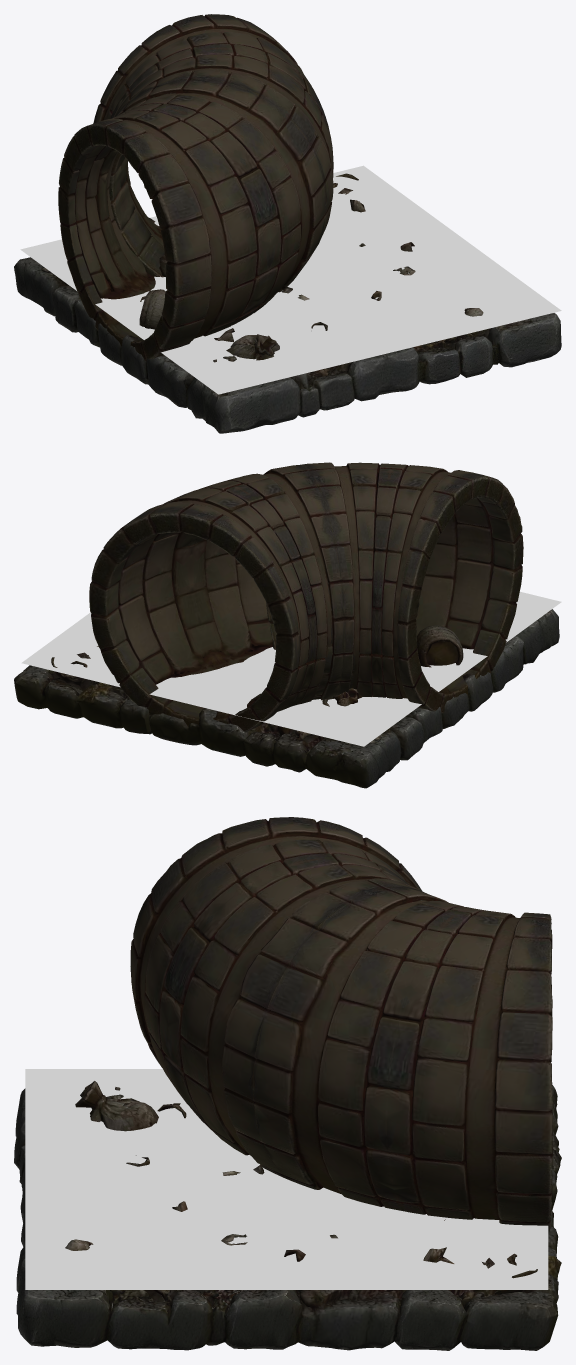
File: Crawlspace_Pipe_Turn.fbx
3 renders of one model, top to bottom at view 1: azimuth 30°, elevation 25°; view 2: azimuth 150°, elevation 25°; view 3: azimuth 270°, elevation 25°, orthographic. The views are drawn at different scales.
Parts seen in each view (by area): view 1: CrawlSpace_Pipe_Turn; view 2: CrawlSpace_Pipe_Turn; view 3: CrawlSpace_Pipe_Turn.
Boxes of the visible parts, bbox=[...] form: CrawlSpace_Pipe_Turn: bbox=[14, 14, 561, 433]; CrawlSpace_Pipe_Turn: bbox=[14, 462, 561, 788]; CrawlSpace_Pipe_Turn: bbox=[14, 817, 561, 1350].
Size of the model in its own units: 312 by 197 by 314.
Materials: 3 (2 with a texture image).
